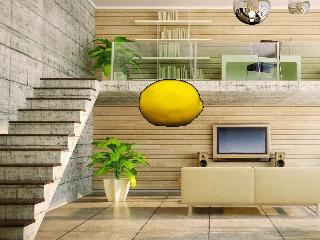lemon: (141, 80, 203, 126)
